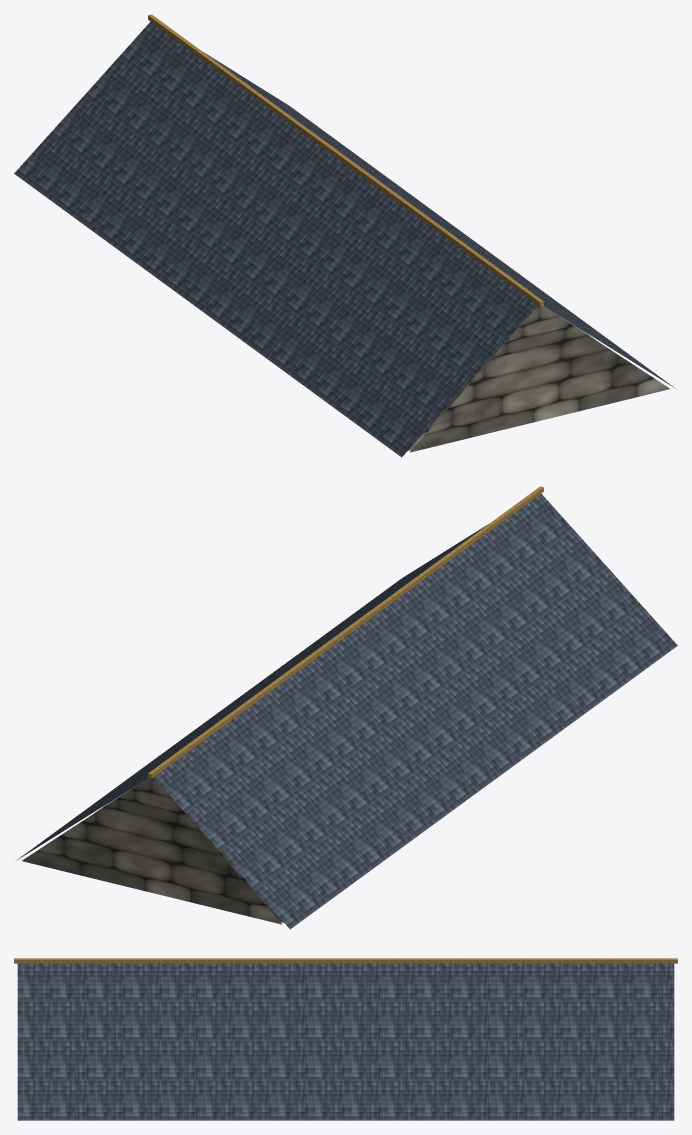
Rendered from Palace_Hall_Roof_1_LOD2.gltf.
3 views of the same model, one above another, from view 1: azimuth 30°, elevation 25°; view 2: azimuth 150°, elevation 25°; view 3: azimuth 270°, elevation 25° (orthographic). The views are drawn at different scales.
Parts seen in each view (by area): view 1: Palace_Hall_Roof_1_LOD2; view 2: Palace_Hall_Roof_1_LOD2; view 3: Palace_Hall_Roof_1_LOD2.
Part boxes in pixels (bbox=[...]): Palace_Hall_Roof_1_LOD2: bbox=[14, 14, 675, 457]; Palace_Hall_Roof_1_LOD2: bbox=[16, 486, 677, 929]; Palace_Hall_Roof_1_LOD2: bbox=[14, 958, 677, 1120].
Size of the model in its own units: 29.6 by 12.65 by 72.8.
Materials: 4 (4 with a texture image).
